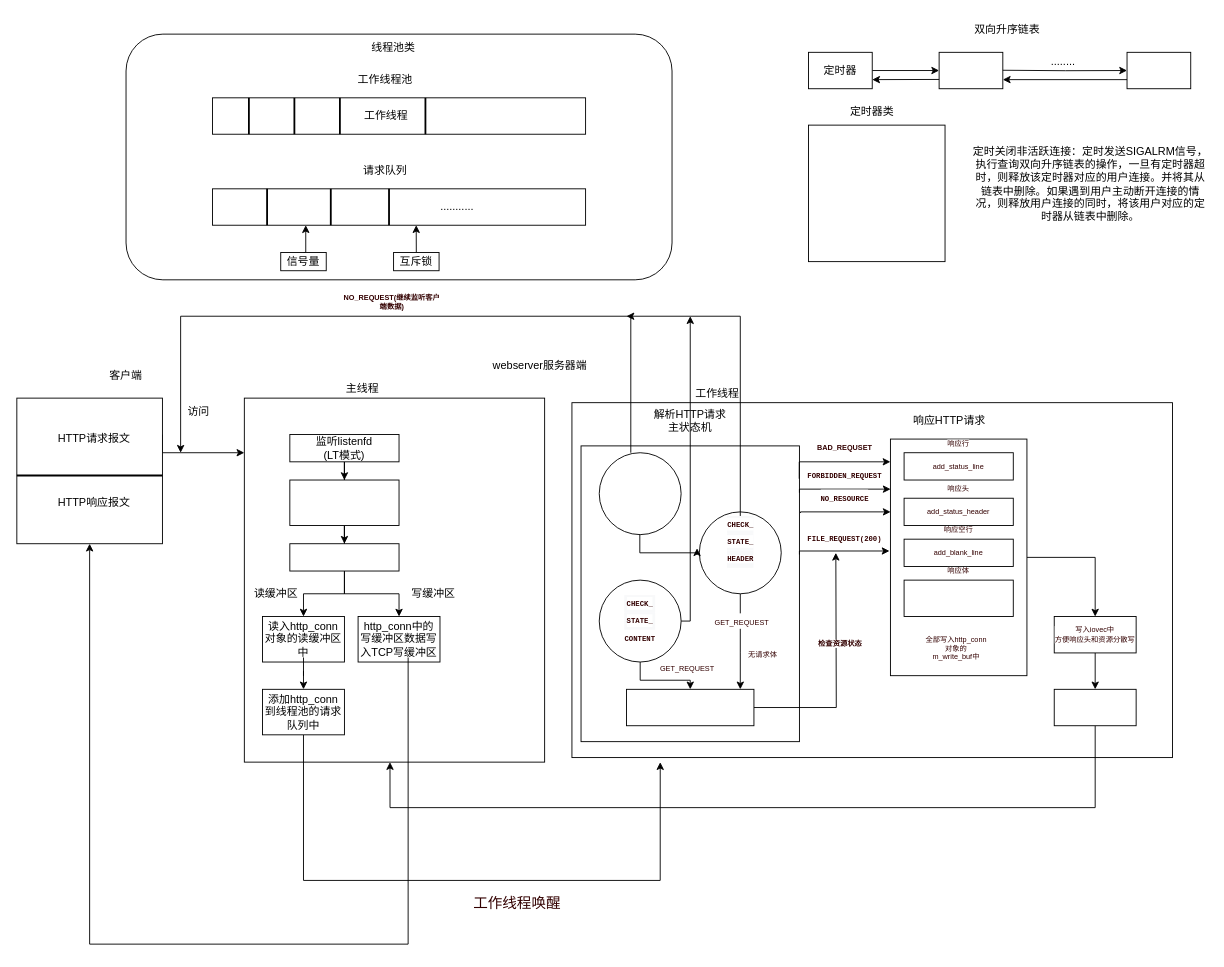
Some shapes in this 1224 by 967 pixel diagram are drawn without their labels. Here are the shapes that lost their labels. From the top down, the box of each, then its label:
(808, 124, 945, 262): 属性： time http_conn void (*cb_fun)(http_conn*)
(289, 479, 399, 526): 创建http_conn并监听connfd (ET oneshot模式)
(598, 452, 681, 535): CHECK_ STATE_ REQUESTLINE
(289, 543, 399, 571): EPOLL事件触发
(903, 579, 1013, 617): m_file_address(200) or m_write_buf(other)
(626, 688, 754, 726): do_request
(1053, 688, 1136, 726): 注册EPOLLOUT事件
